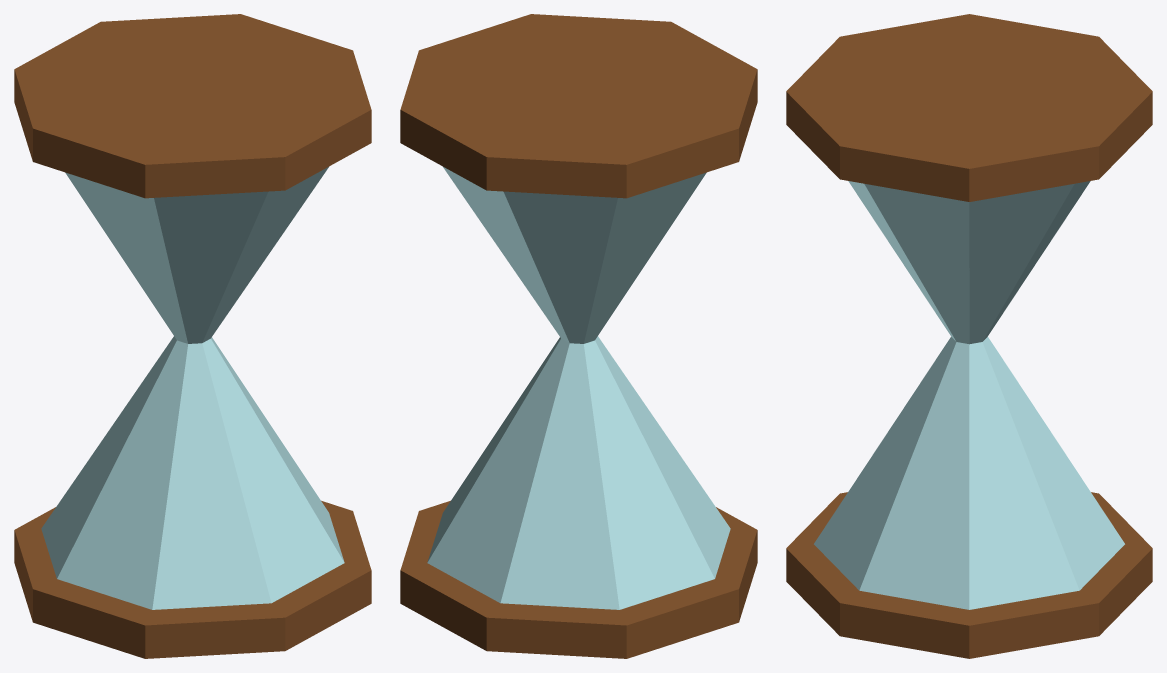
Rendered from hourglass.glb.
3 renders of one model, left to right at view 1: azimuth 30°, elevation 25°; view 2: azimuth 150°, elevation 25°; view 3: azimuth 270°, elevation 25°, orthographic.
Visible parts, largest first — view 1: hourglass; view 2: hourglass; view 3: hourglass.
Part boxes in pixels (box(x1,y1,x2,y2)): hourglass: box(14, 14, 371, 658); hourglass: box(400, 14, 757, 658); hourglass: box(786, 14, 1152, 658).
Size of the model in its own units: 0.4 by 0.59 by 0.4.
